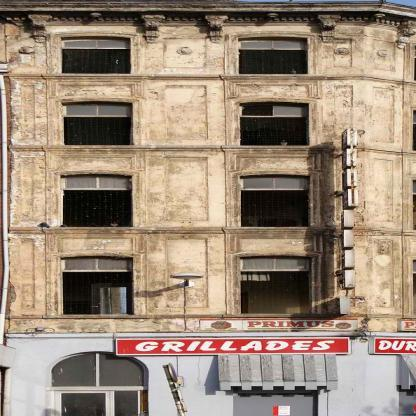Building Outline: (0, 0, 415, 416)
Facade: (1, 8, 415, 416)
Floor: (1, 247, 415, 334), (1, 165, 415, 243), (1, 89, 415, 161)
Floor Slab: (1, 85, 415, 89), (1, 334, 415, 337), (1, 161, 415, 164), (1, 243, 415, 246)
Ground Floor: (1, 337, 415, 416)
Molding: (0, 11, 415, 49)
Shop: (116, 337, 349, 355), (335, 128, 359, 291), (200, 318, 357, 331), (368, 337, 415, 354), (397, 320, 415, 332)
Top Floor: (1, 11, 415, 85)
Window: (45, 351, 149, 416), (60, 256, 134, 315), (240, 255, 314, 314), (60, 174, 134, 227), (240, 174, 310, 227), (61, 101, 133, 145), (238, 102, 310, 146), (237, 36, 309, 75), (60, 36, 132, 74), (233, 393, 319, 416)
